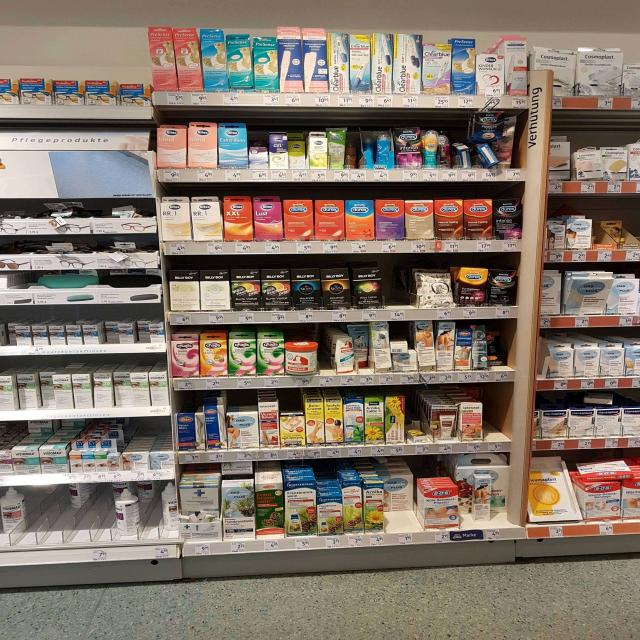void: (32, 484, 68, 564), (384, 257, 411, 323), (485, 385, 510, 453), (93, 485, 114, 561)
